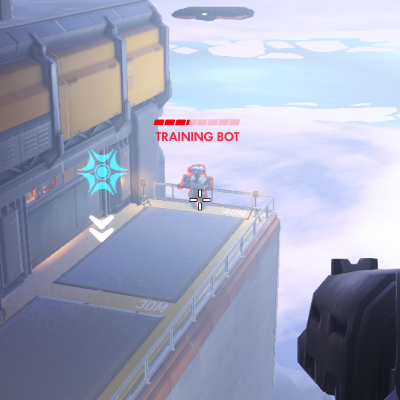hpbar: (153, 119, 240, 126)
